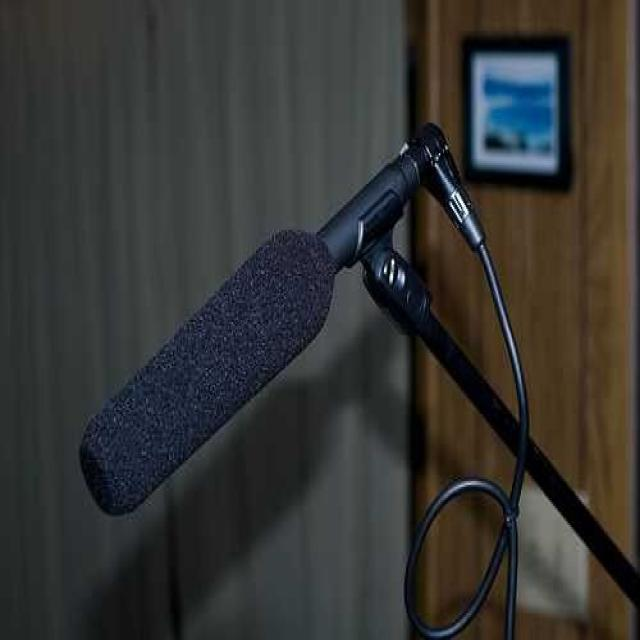microphone: (85, 137, 436, 510)
